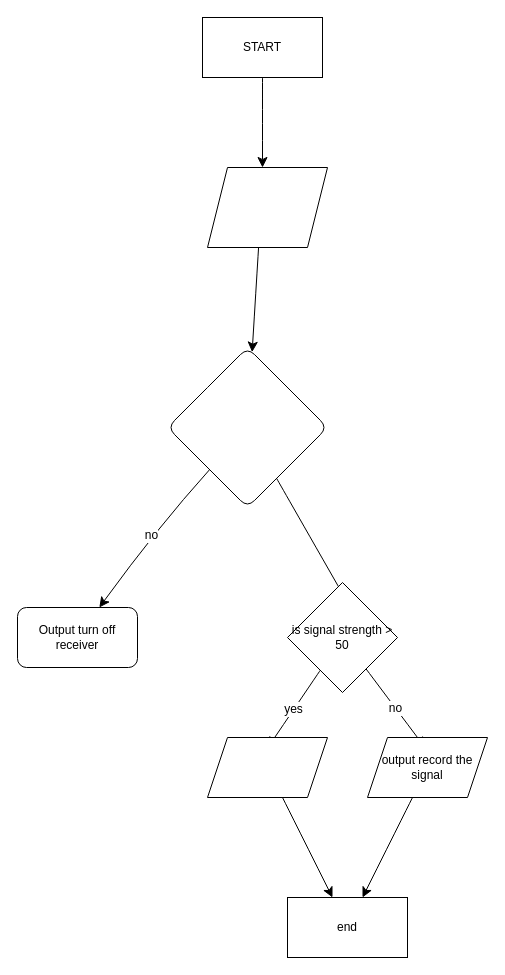
The diagram is 505 pixels wide and 975 high, and some of its shapes have lost their labels. Here are the shapes that lost their labels. From the top down, the centre of each, then its label:
At (x=267, y=207): "input nighttime signal".
At (x=247, y=427): "is the nighttime true".
At (x=267, y=767): "output do not record".
